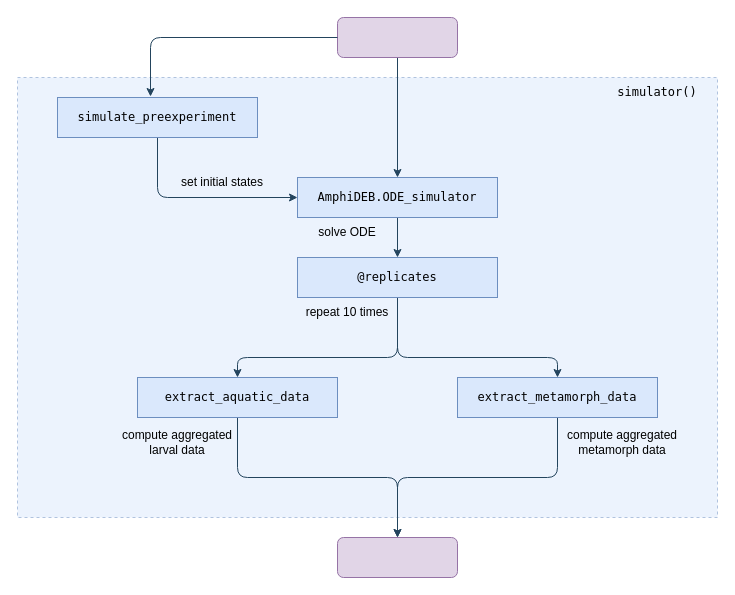
The diagram is 735 pixels wide and 595 high, and some of its shapes have lost their labels. Each missing label, with the centre of its shape:
"p::ComponentVector" belongs at pixel 397 37.
"sim::Dict" belongs at pixel 397 557.
